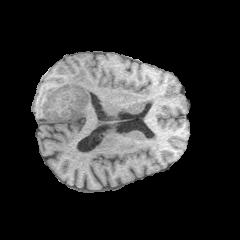glioma: (39, 70, 97, 121)
